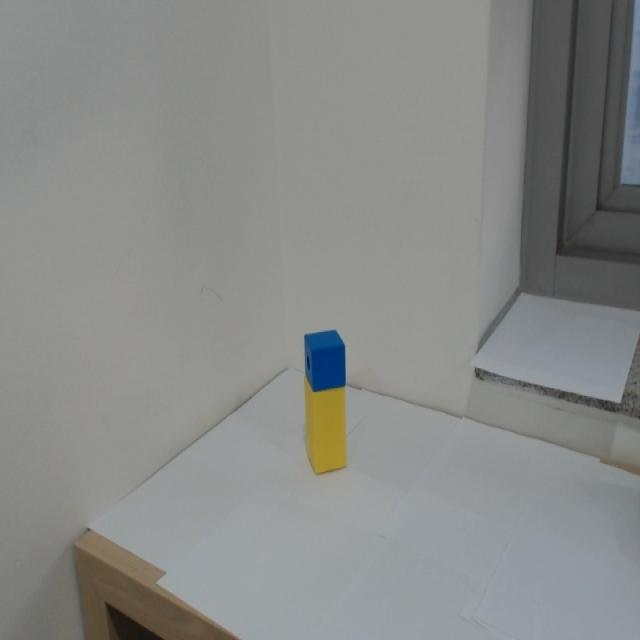cube: (304, 329, 346, 393)
